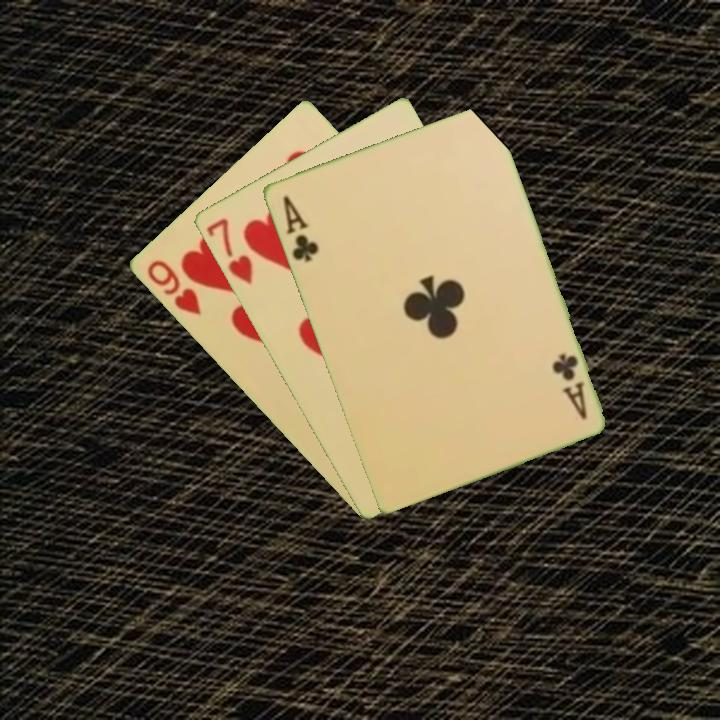7h: (202, 214, 255, 288)
9h: (143, 256, 204, 318)
Ac: (279, 192, 321, 265), (548, 350, 589, 423)
